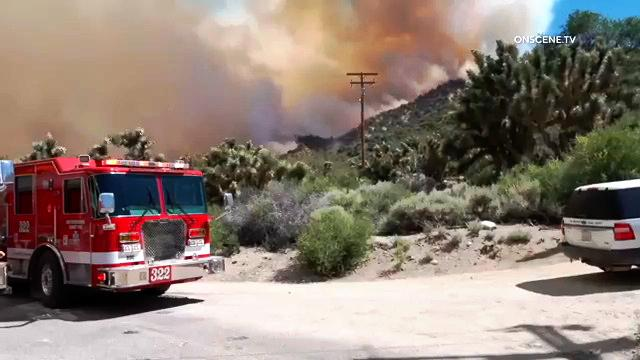smoke: (275, 0, 476, 61)
